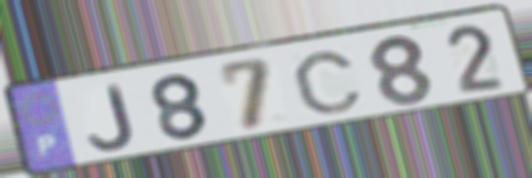2: (445, 23, 507, 96)
7: (216, 53, 281, 135)
8: (367, 33, 436, 107), (148, 71, 213, 143)
C: (290, 50, 367, 116)
J: (85, 81, 138, 152)
